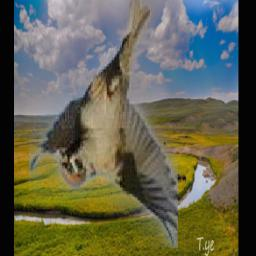Sparrow: (29, 0, 178, 249)
